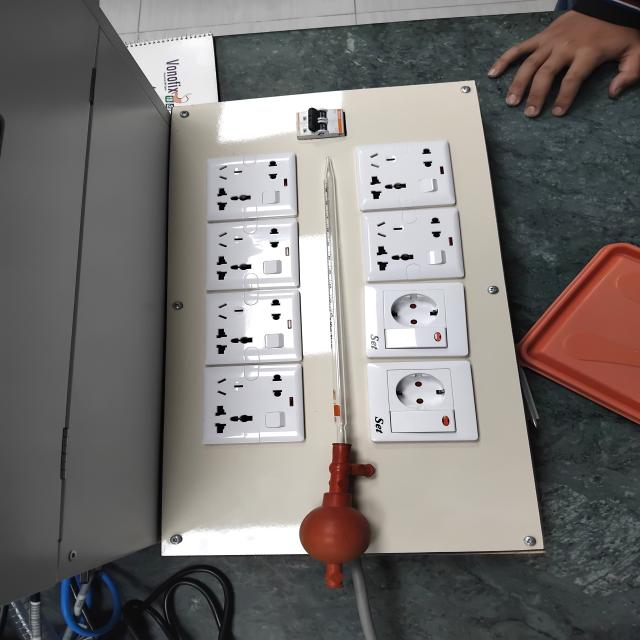Volumetric_Pipet: (268, 146, 381, 606)
